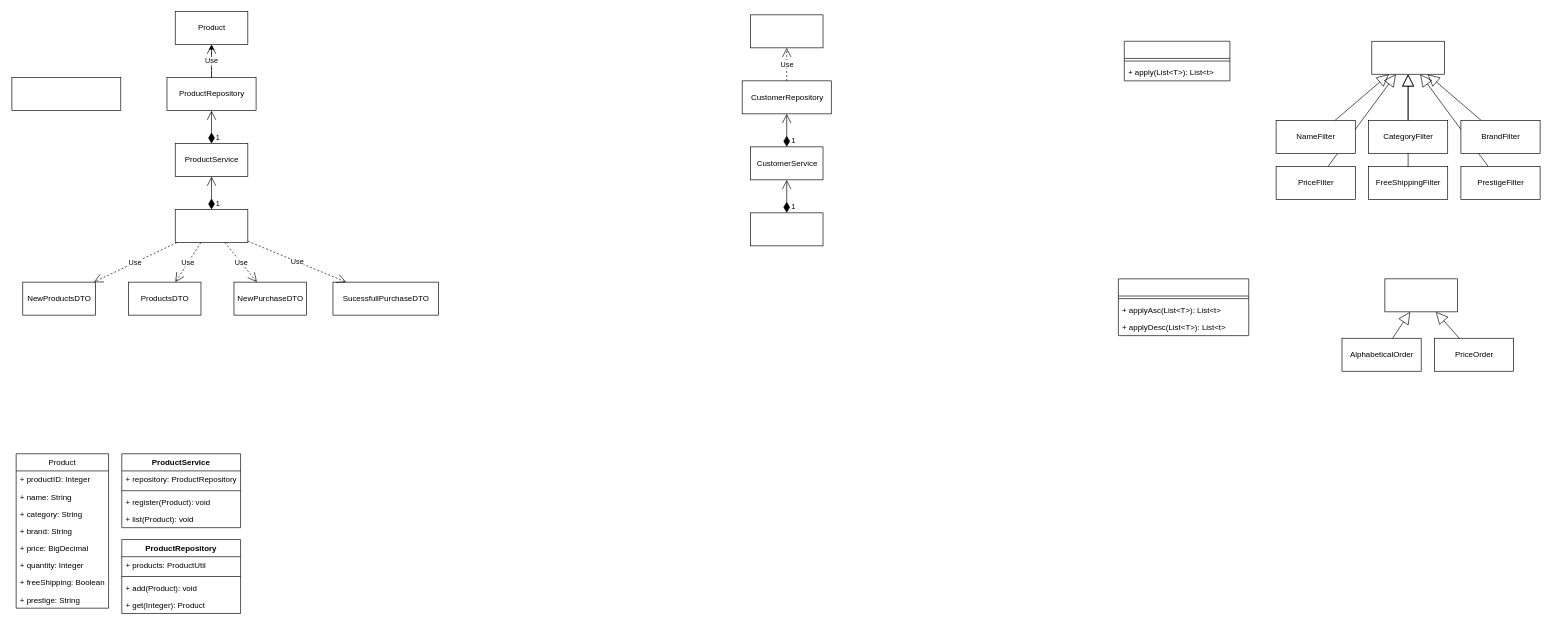
Some shapes in this 1552 by 627 pixel diagram are drawn without their labels. The shapes that lost their labels are listed below. From the top down, each one's box as (x1, y1, x2, y2) in pixels, then its label:
(750, 14, 823, 48): Customer
(1124, 41, 1230, 81): Filter
(1371, 41, 1444, 74): «interface» Filter
(11, 77, 121, 111): ProductUtil (ObjectMapper)
(175, 209, 248, 243): ProductController
(750, 212, 823, 246): CustomerController
(1118, 278, 1249, 336): Order
(1384, 278, 1457, 312): «interface» Order
